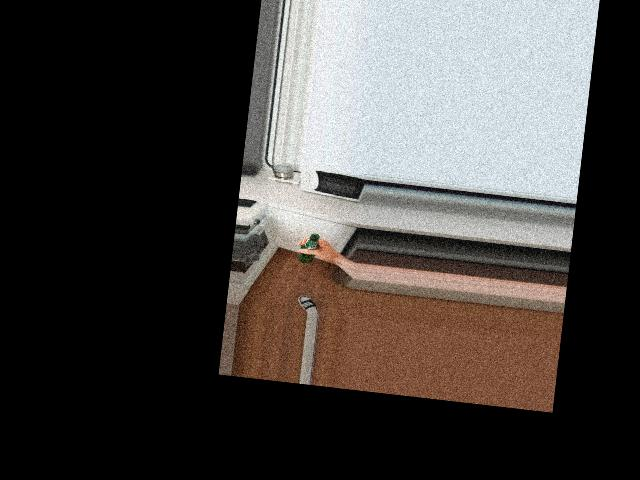beer: (297, 232, 319, 265)
